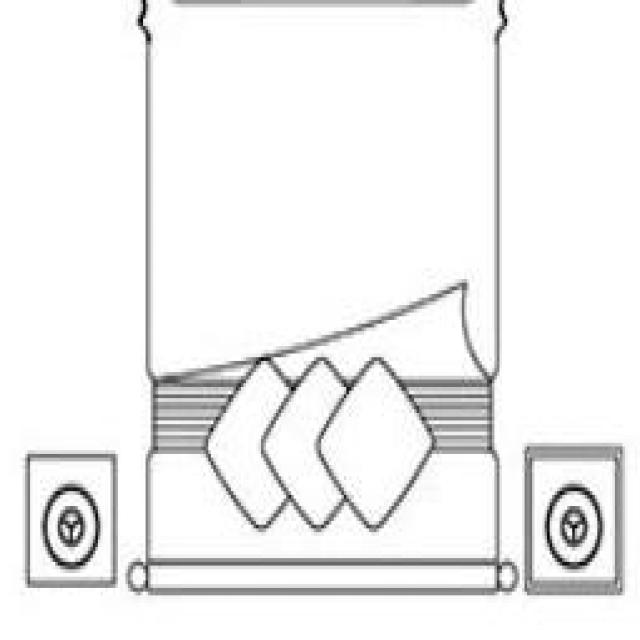bed: (15, 0, 622, 592)
